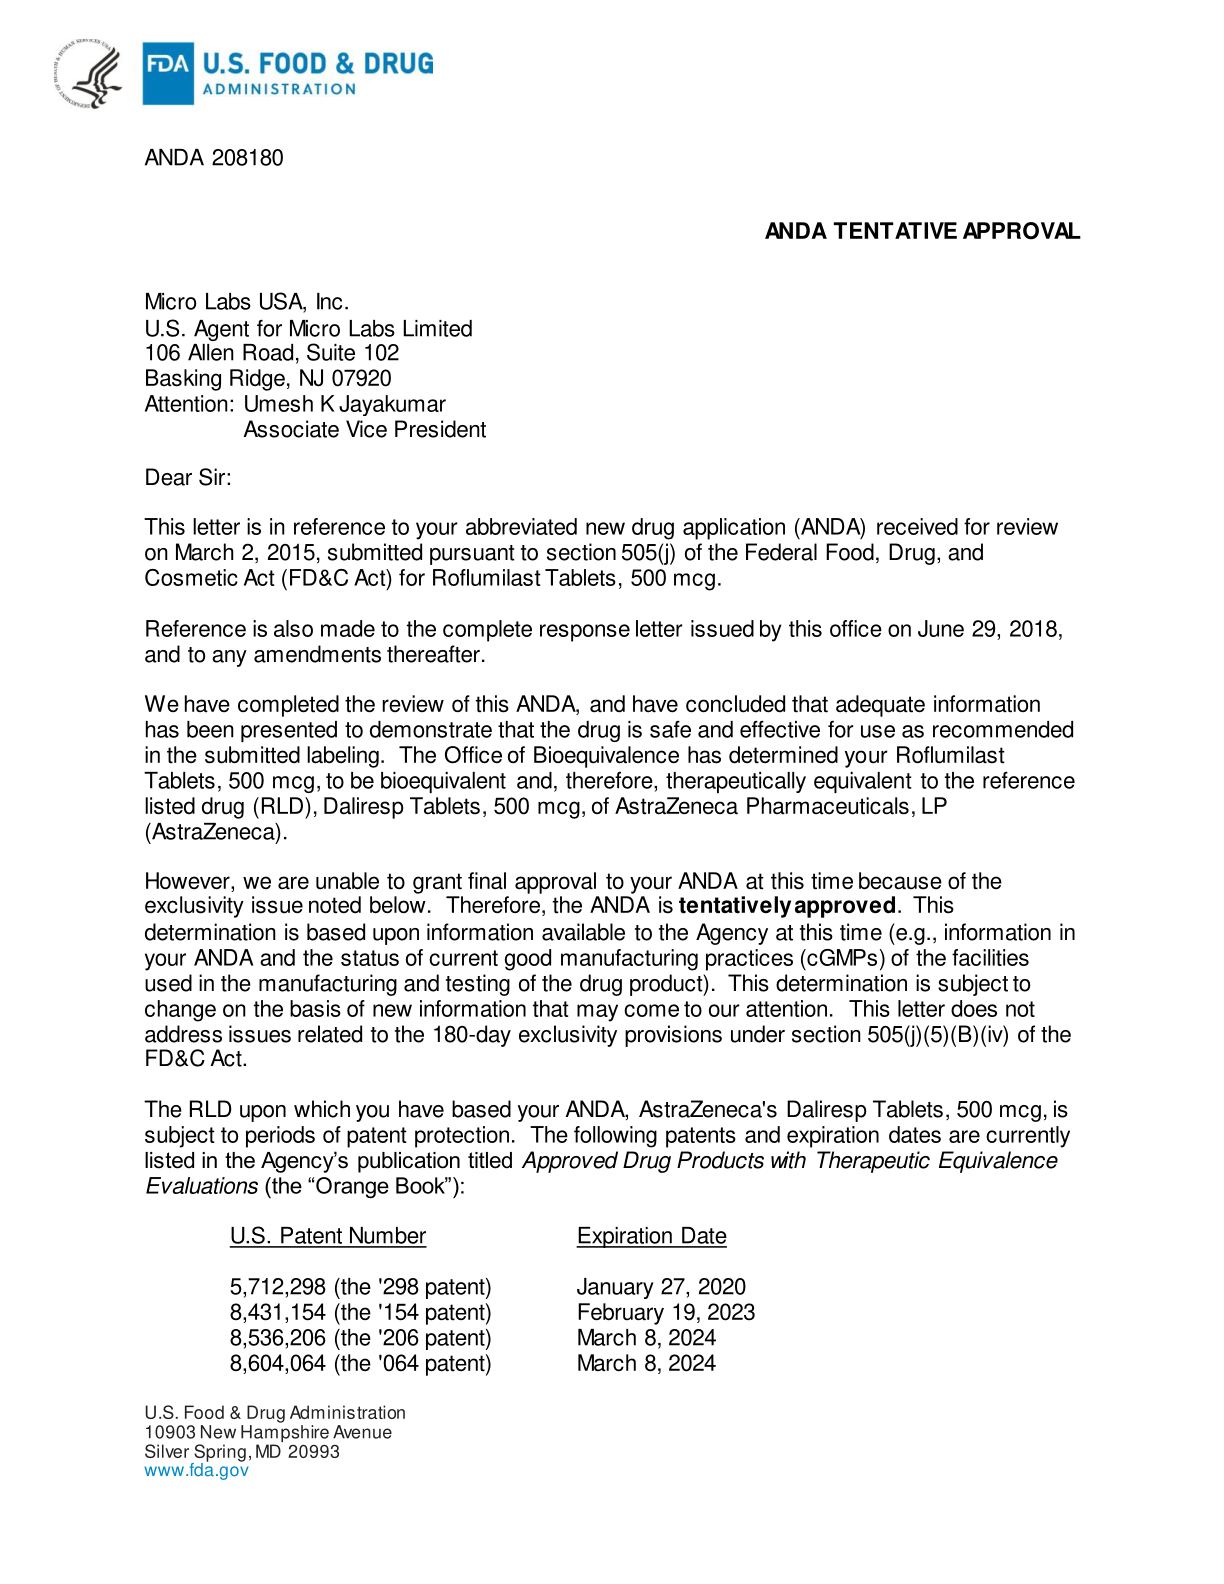nolines: (228, 1223, 757, 1377)
